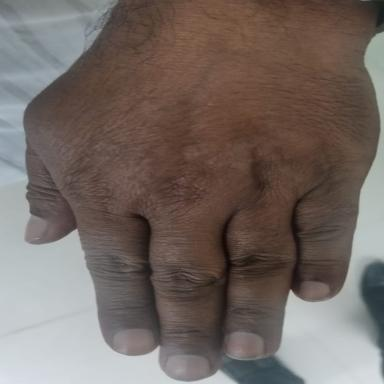normal skin: (26, 0, 377, 380)
